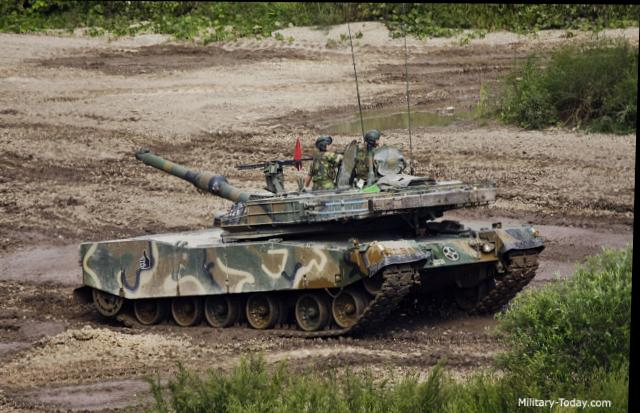other: (339, 125, 392, 180), (303, 125, 340, 190)
tank: (83, 161, 539, 327)
